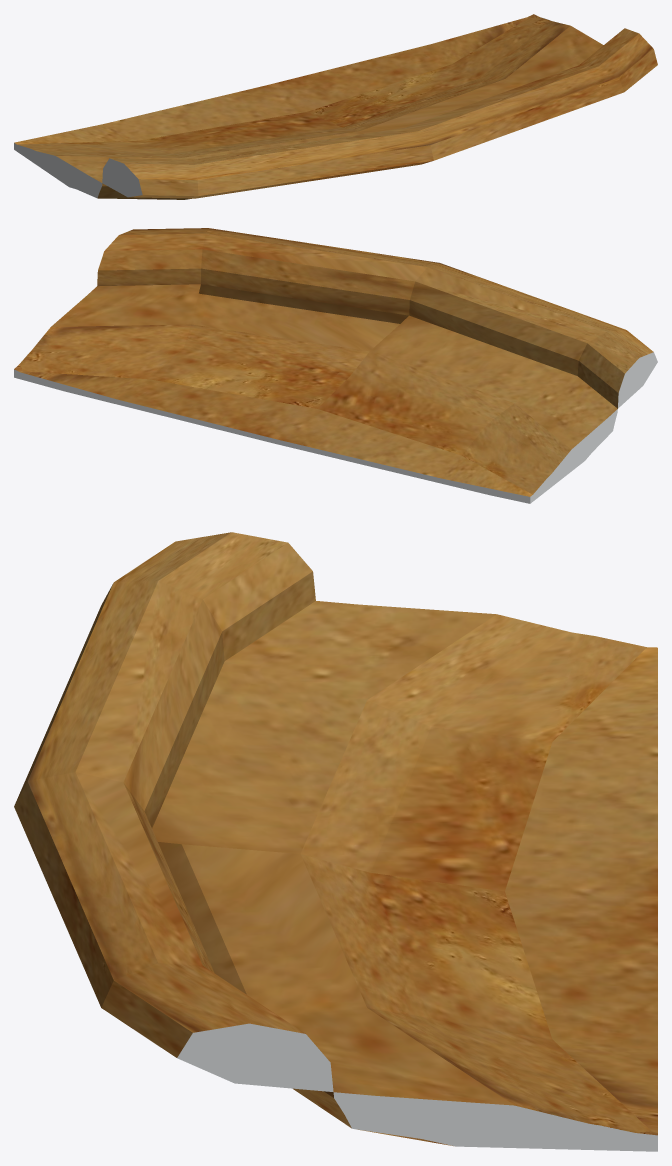
The model's file is rec6.gltf.
The picture shows the model from 3 angles, top to bottom: view 1: azimuth 30°, elevation 25°; view 2: azimuth 150°, elevation 25°; view 3: azimuth 270°, elevation 25°; orthographic projection. The views are drawn at different scales.
Visible parts, largest first — view 1: 평면; view 2: 평면; view 3: 평면.
Boxes of the visible parts, <box> form: 평면: <box>14,14,657,199</box>; 평면: <box>14,228,657,503</box>; 평면: <box>14,532,657,1151</box>.
Bounding box in the file's own units: 0.7916 × 0.1 × 0.4384.
1 material, 1 textured.
